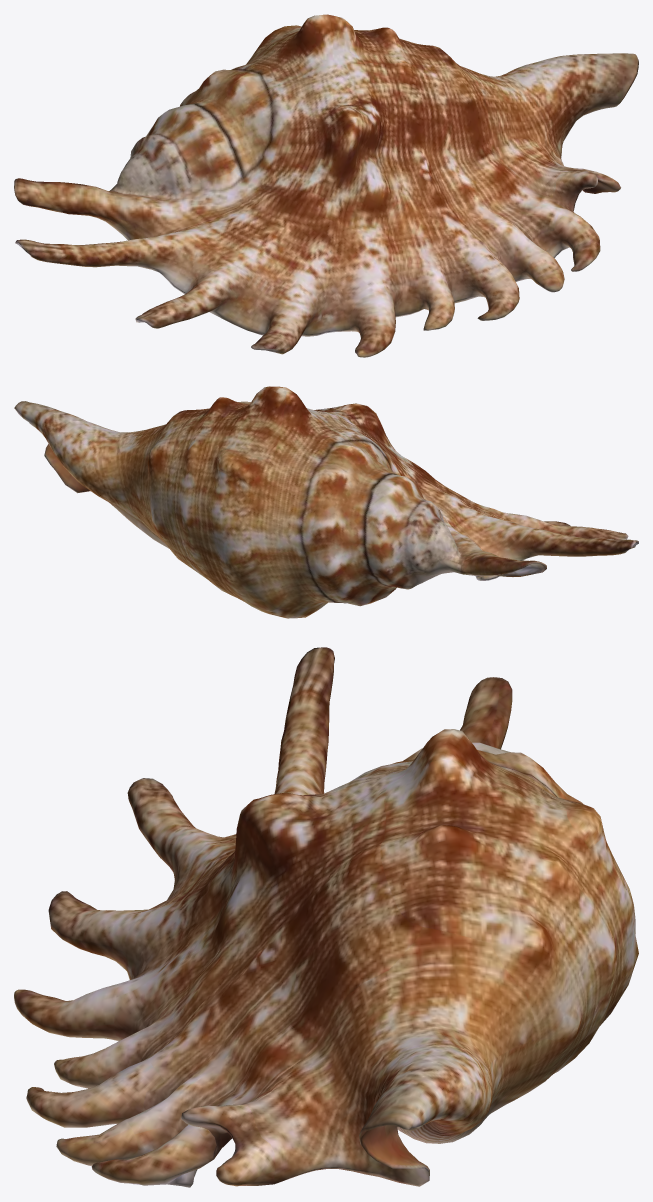
The model's file is lambis_shell.glb.
3 views of the same model, one above another, from view 1: azimuth 30°, elevation 25°; view 2: azimuth 150°, elevation 25°; view 3: azimuth 270°, elevation 25° (orthographic). The views are drawn at different scales.
Visible parts, largest first — view 1: lambis_shell; view 2: lambis_shell; view 3: lambis_shell.
Part boxes in pixels (x1,y1,x2,y2): lambis_shell: (14,14,638,357); lambis_shell: (14,386,638,618); lambis_shell: (14,647,638,1187).
Size of the model in its own units: 0.1395 by 0.0465 by 0.0745.
1 material, 1 textured.
